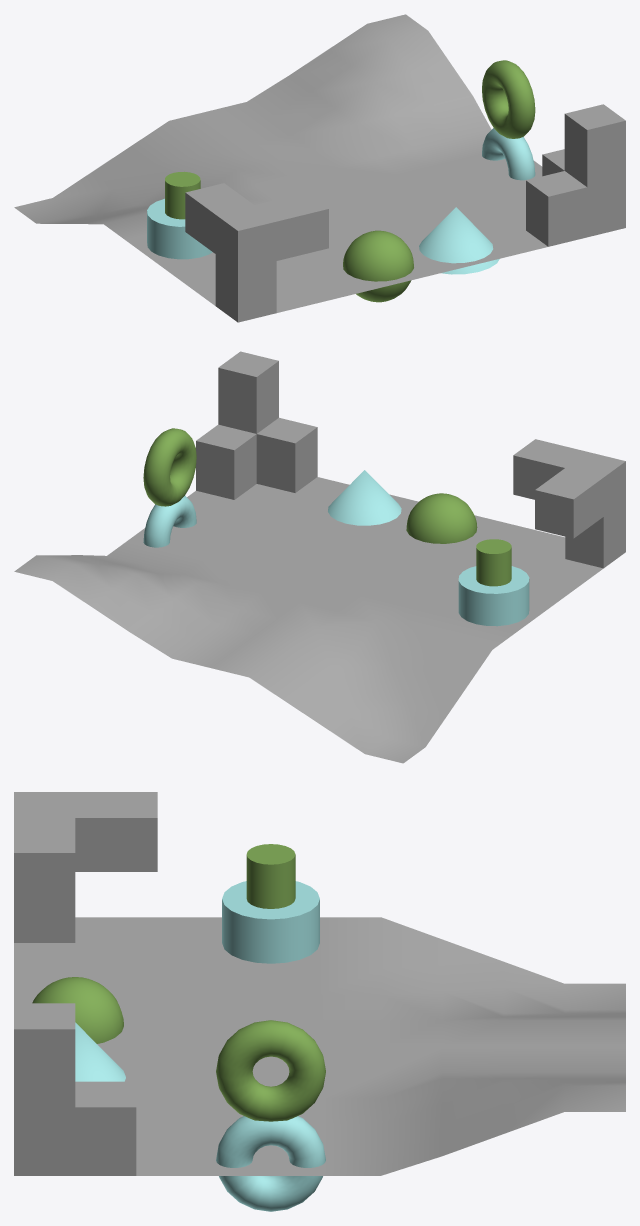
File: Ground4.fbx
The picture shows the model from 3 angles, top to bottom: view 1: azimuth 30°, elevation 25°; view 2: azimuth 150°, elevation 25°; view 3: azimuth 270°, elevation 25°; orthographic projection. The views are drawn at different scales.
Parts seen in each view (by area): view 1: pPlane3; view 2: pPlane3; view 3: pPlane3.
Part boxes in pixels (box(x1,y1,x2,y2)): pPlane3: box(14, 14, 625, 322); pPlane3: box(14, 351, 625, 763); pPlane3: box(14, 792, 625, 1211).
Size of the model in its own units: 50.5 by 19.22 by 50.
